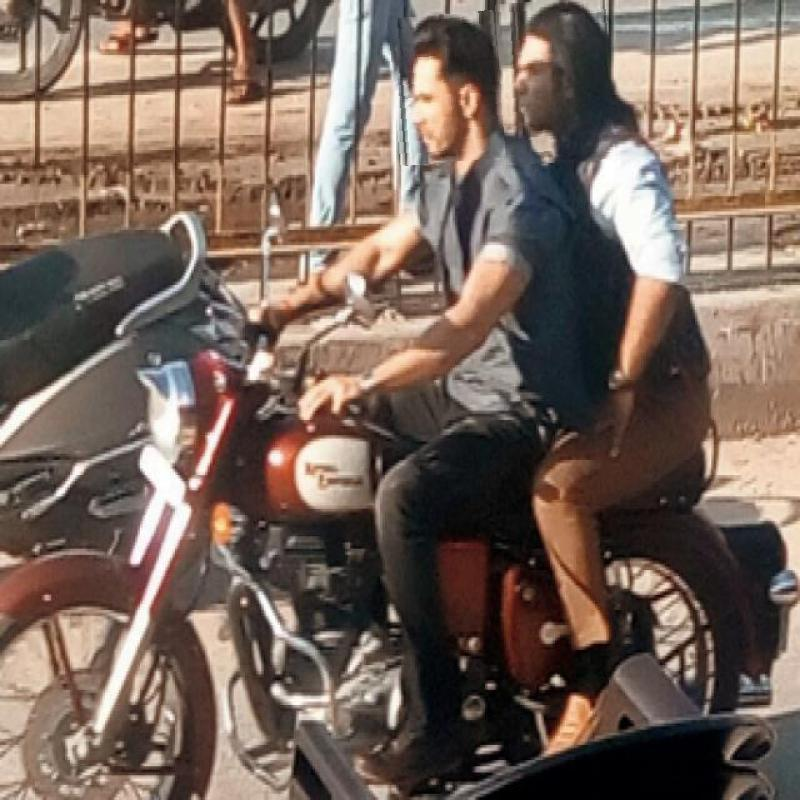nohelmet: (498, 0, 613, 163), (391, 12, 504, 164)
